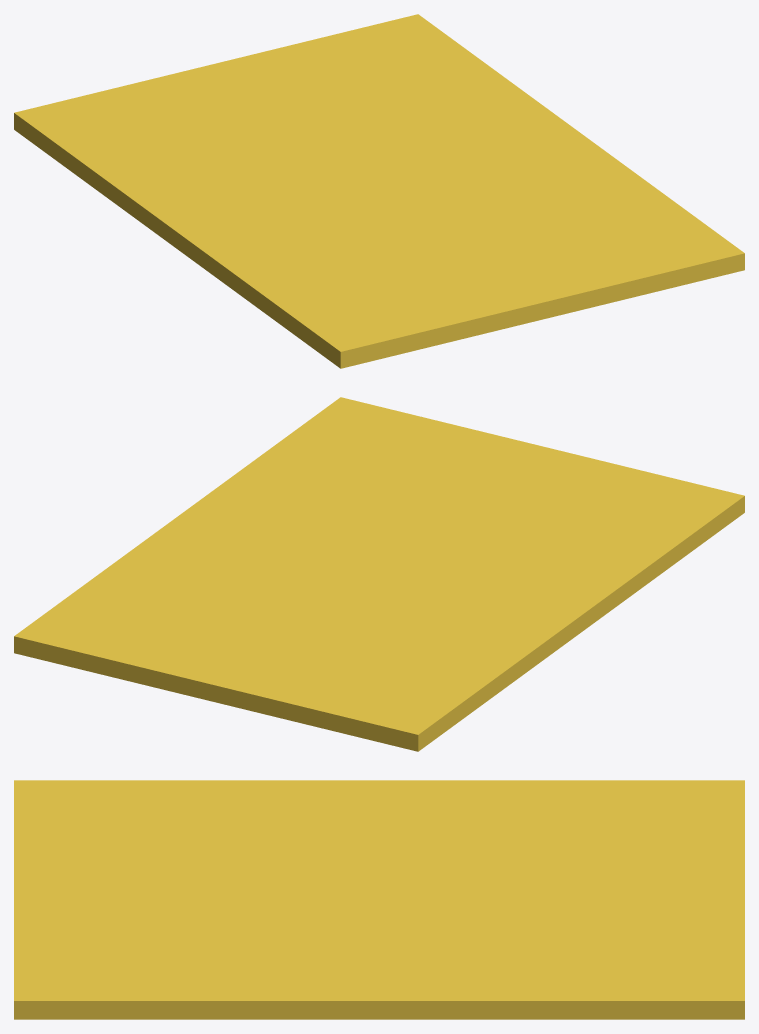
Rendered from Suelo.FBX.
The picture shows the model from 3 angles, top to bottom: view 1: azimuth 30°, elevation 25°; view 2: azimuth 150°, elevation 25°; view 3: azimuth 270°, elevation 25°; orthographic projection. The views are drawn at different scales.
Visible parts, largest first — view 1: Piso; view 2: Piso; view 3: Piso.
Part boxes in pixels (box(x1,y1,x2,y2)): Piso: box(14, 14, 744, 368); Piso: box(14, 397, 744, 751); Piso: box(14, 780, 744, 1019).
Bounding box in the file's own units: 5 × 0.2 × 7.
